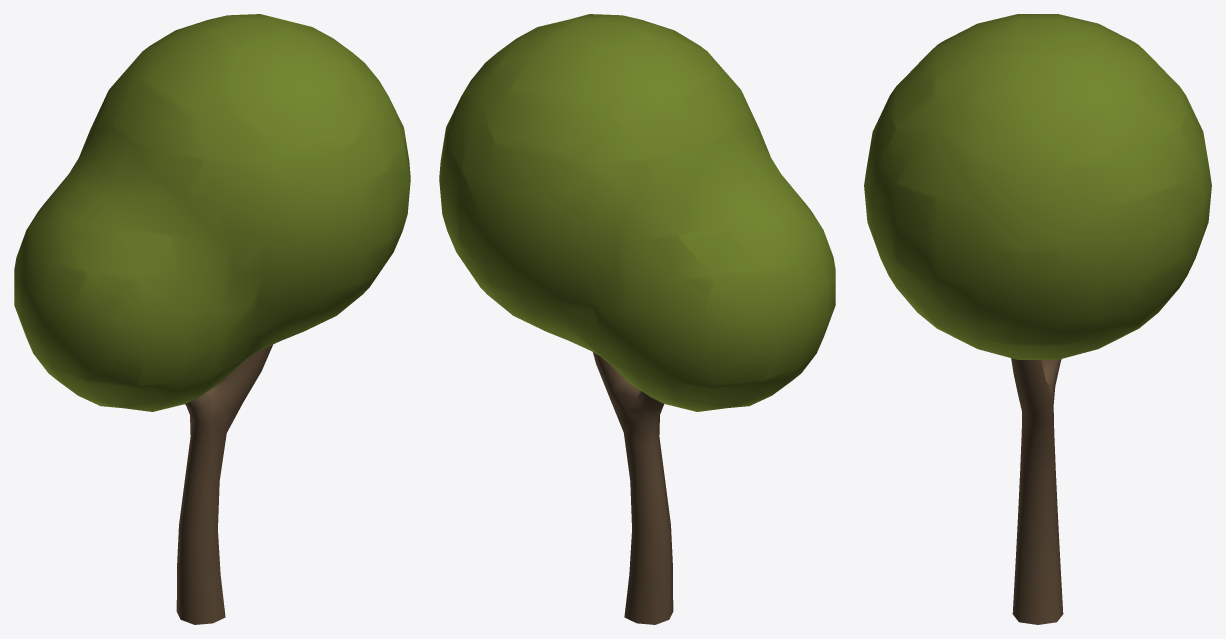
The model's file is q-tree-b0boebsv1r.glb.
The picture shows the model from 3 angles, left to right: view 1: azimuth 30°, elevation 25°; view 2: azimuth 150°, elevation 25°; view 3: azimuth 270°, elevation 25°; orthographic projection. The views are drawn at different scales.
Parts seen in each view (by area): view 1: Tree_4; view 2: Tree_4; view 3: Tree_4.
Boxes of the visible parts, bbox=[...] form: Tree_4: bbox=[14, 14, 410, 624]; Tree_4: bbox=[439, 14, 835, 624]; Tree_4: bbox=[864, 14, 1211, 624].
Size of the model in its own units: 3.3 by 5.08 by 2.63.
